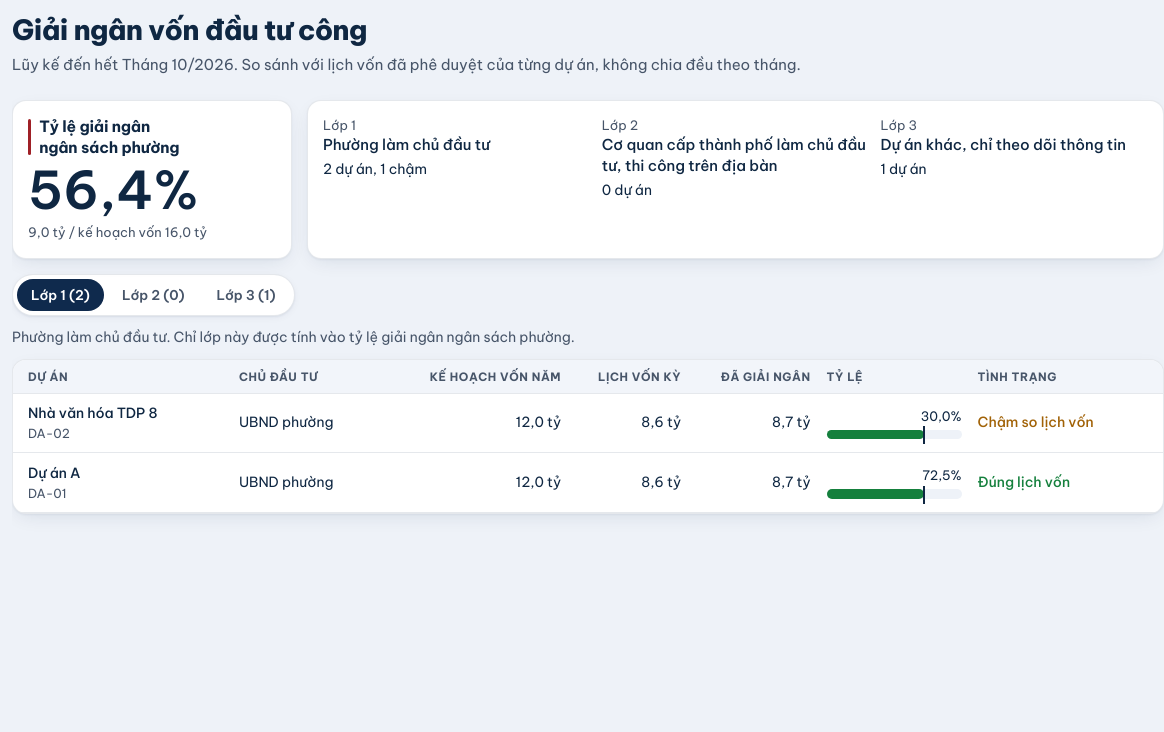
it: Đầu tư công › lớp 3 ghi chú không tính vào tỷ lệ giải ngân, thiếu số hiện gạch ngang
Click the tab "Lớp 3 (1)" at (246, 295), box left=202, top=279, right=290, bottom=311
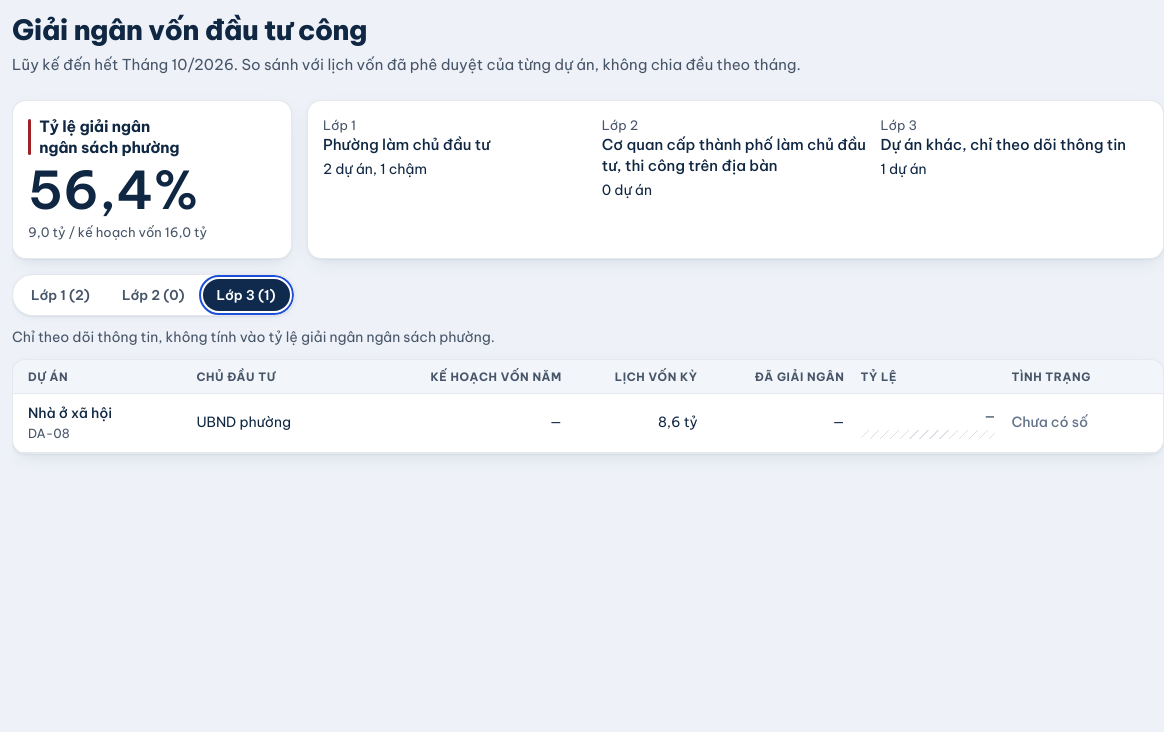
Check: the text "Chỉ theo dõi thông tin, không tính vào tỷ lệ giải ngân ngân sách phường." is shown, box left=12, top=328, right=495, bottom=346
Check: the row "Nhà ở xã hội DA-08 UBND phường — 8,6 tỷ — — Chưa có số" is shown, box left=13, top=393, right=1163, bottom=453
